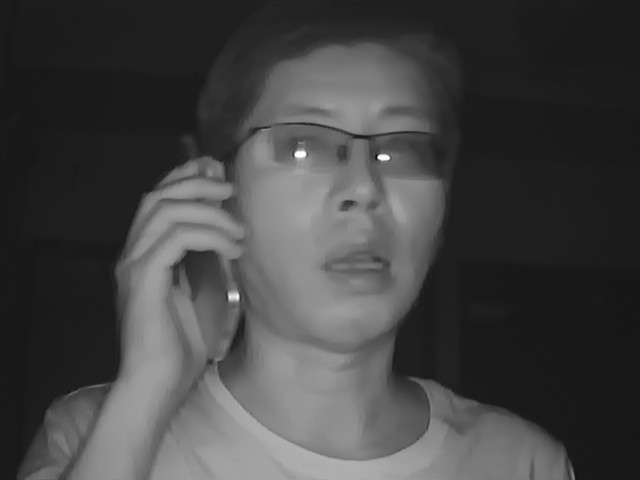hand: (103, 159, 250, 369)
